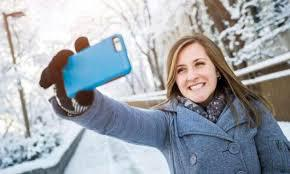face: (175, 43, 217, 103)
